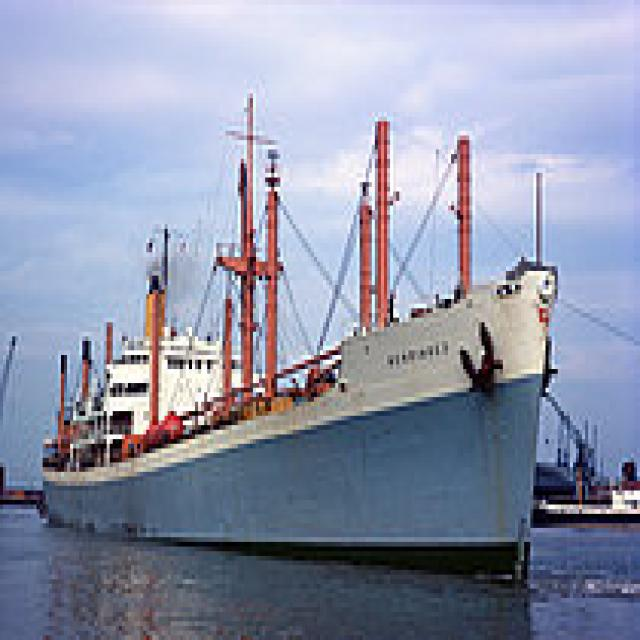Cargo: (30, 84, 558, 579)
